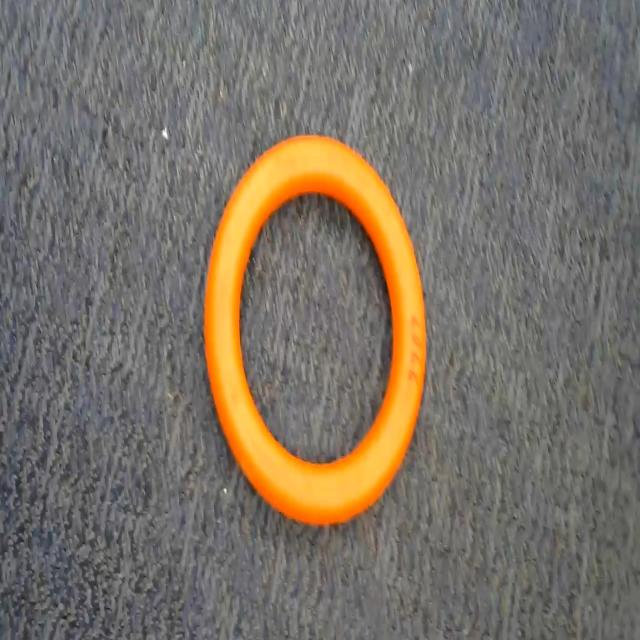note: (189, 119, 439, 536)
